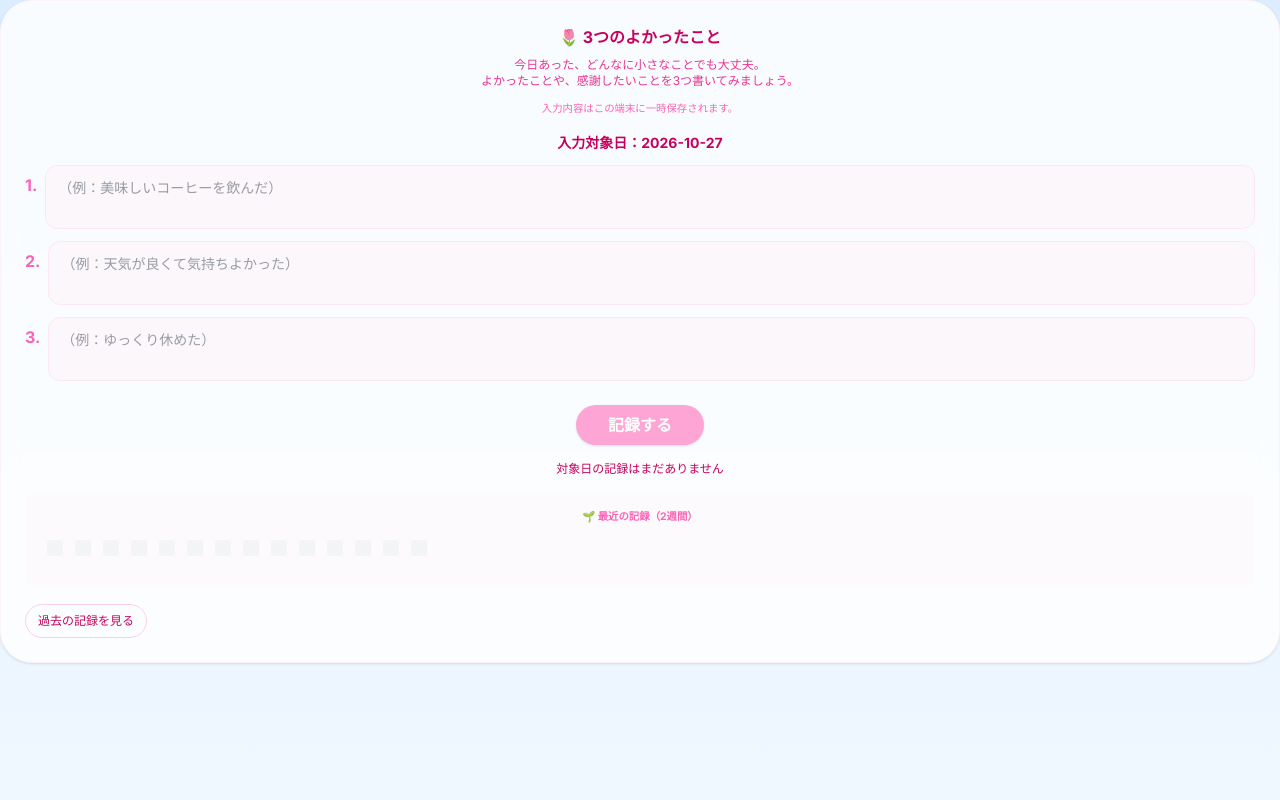
Test: ThreeGoodThingsCard › 表示中の利用者と現在の認証利用者が異なると保存しない
Type "Aの入力" into the text box with placeholder "（例：美味しいコーヒーを飲んだ）" at (650, 197), box [45,165,1255,229]
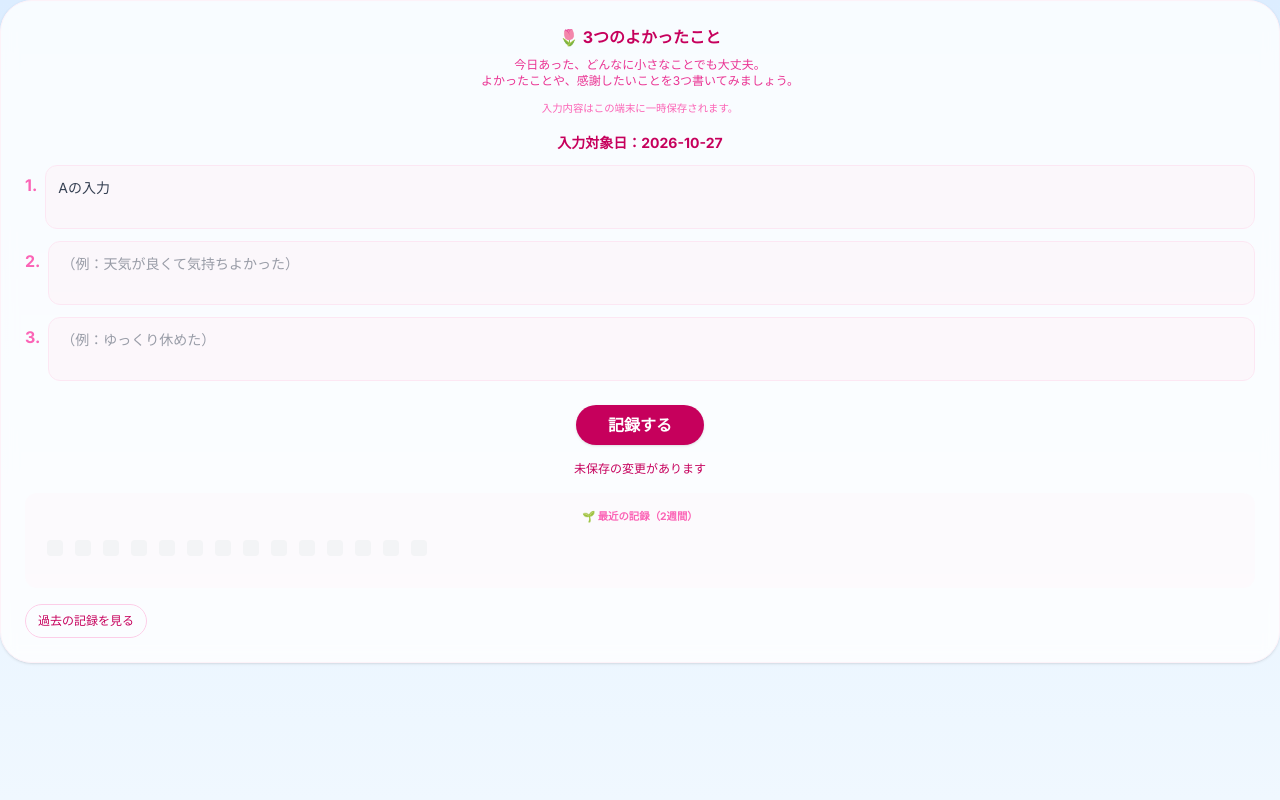
Click the button "記録する" at (640, 425), box [576,405,704,445]
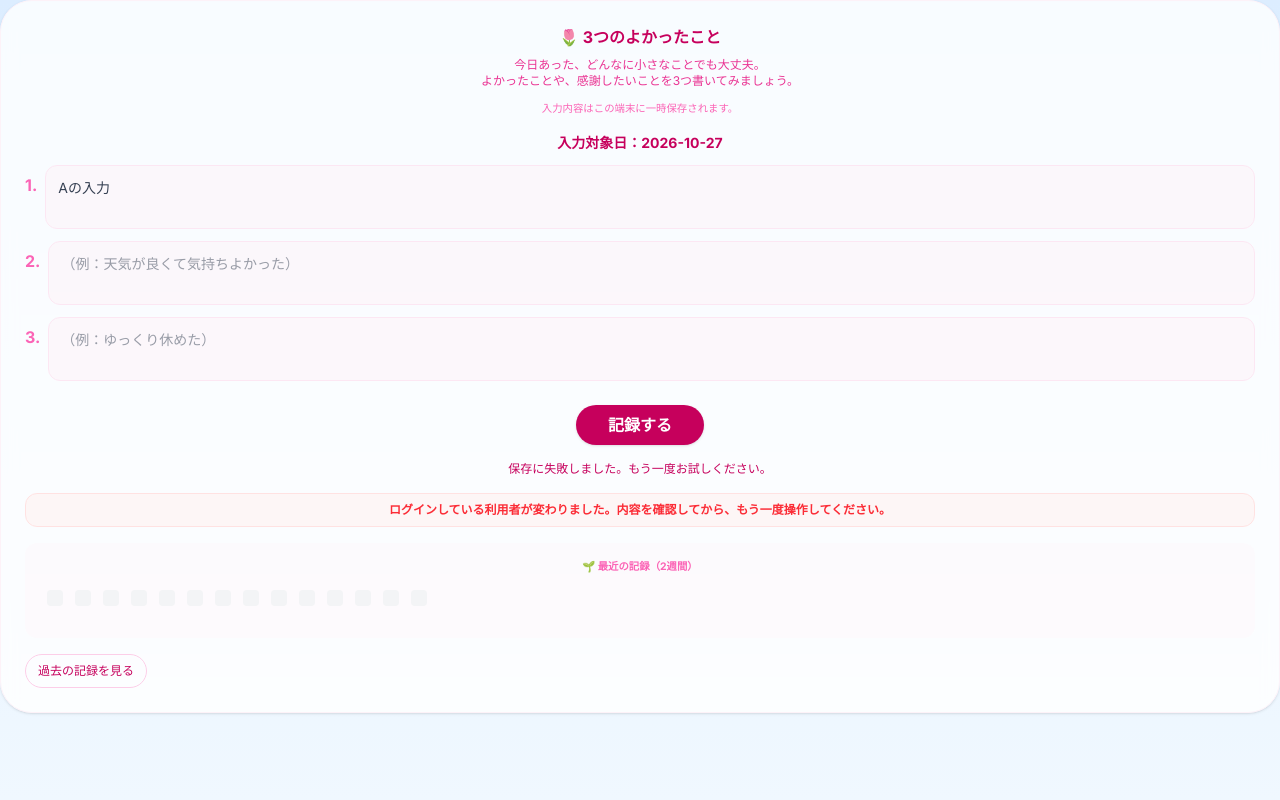
Result: the message "ログインしている利用者が変わりました。内容を確認してから、もう一度操作してください。" is shown at [25,493,1255,527]
